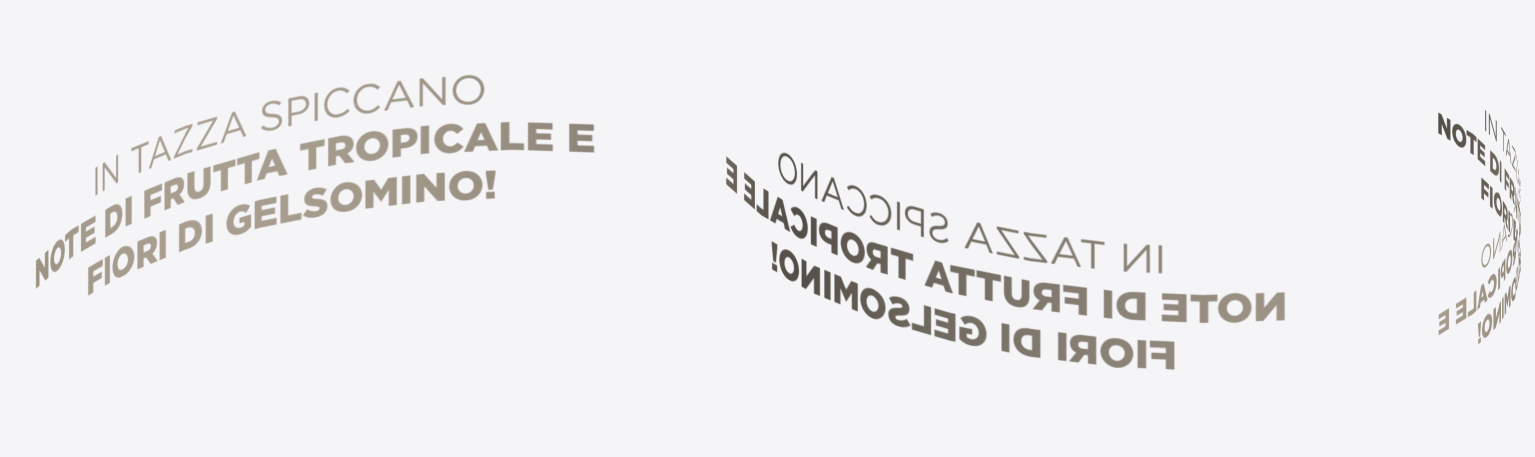
Rendered from Colombia_WrongAnswer.glb.
The picture shows the model from 3 angles, left to right: view 1: azimuth 30°, elevation 25°; view 2: azimuth 150°, elevation 25°; view 3: azimuth 270°, elevation 25°; orthographic projection. The views are drawn at different scales.
Parts seen in each view (by area): view 1: colombia_text; view 2: colombia_text; view 3: colombia_text.
Boxes of the visible parts, <box> form: colombia_text: <box>36,75,594,295</box>; colombia_text: <box>726,152,1284,369</box>; colombia_text: <box>1438,110,1520,344</box>.
Bounding box in the file's own units: 1.53 × 0.5648 × 0.3409.
1 material, 1 textured.
